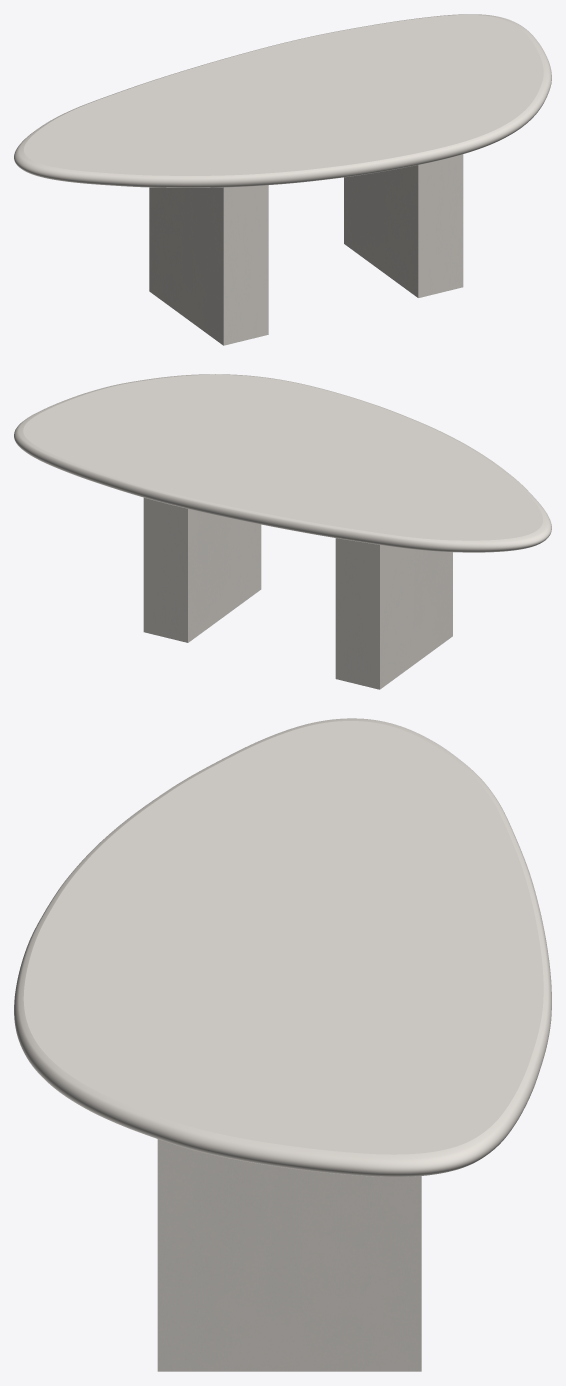
File: pearlwhite_pebbletop_round_ridge.glb
The picture shows the model from 3 angles, top to bottom: view 1: azimuth 30°, elevation 25°; view 2: azimuth 150°, elevation 25°; view 3: azimuth 270°, elevation 25°; orthographic projection. The views are drawn at different scales.
Visible parts, largest first — view 1: round_pebbletop, ridge; view 2: round_pebbletop, ridge; view 3: round_pebbletop, ridge.
Part boxes in pixels (x1,y1,x2,y2): round_pebbletop: [14, 14, 551, 187]; ridge: [149, 154, 463, 345]; round_pebbletop: [14, 374, 551, 552]; ridge: [143, 497, 452, 689]; round_pebbletop: [14, 718, 551, 1176]; ridge: [157, 1139, 421, 1371].
Bounding box in the file's own units: 7.5 × 2.51 × 3.8.
1 material, 1 textured.
